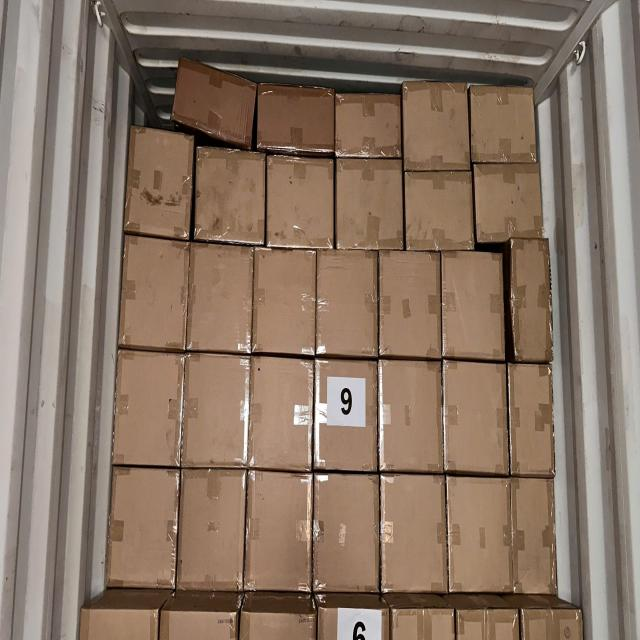Carton: (379, 471, 449, 598), (109, 468, 176, 594), (119, 232, 187, 355), (442, 358, 510, 478), (124, 123, 193, 241), (314, 473, 380, 595), (446, 473, 512, 595), (115, 352, 183, 470), (246, 471, 312, 592), (379, 357, 445, 475), (174, 54, 256, 148), (188, 241, 255, 356), (179, 471, 243, 591), (314, 359, 380, 472), (441, 249, 506, 363), (377, 251, 443, 361), (184, 353, 247, 468), (315, 247, 379, 360), (195, 146, 265, 249), (251, 353, 312, 470), (253, 246, 317, 356), (335, 155, 405, 253), (267, 153, 337, 251), (510, 476, 560, 598), (509, 238, 557, 363), (403, 84, 469, 172), (404, 170, 474, 252), (257, 82, 334, 156), (507, 364, 555, 478), (473, 160, 544, 237), (469, 84, 539, 162), (336, 91, 402, 158)
